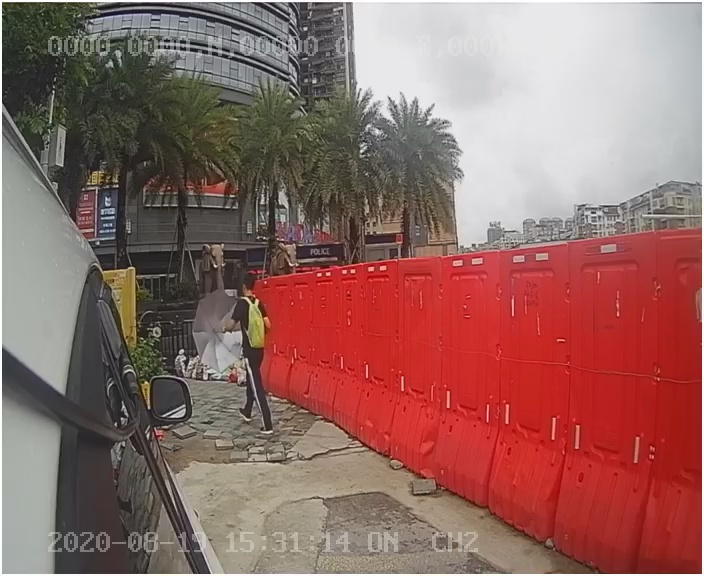person: (219, 275, 289, 436)
